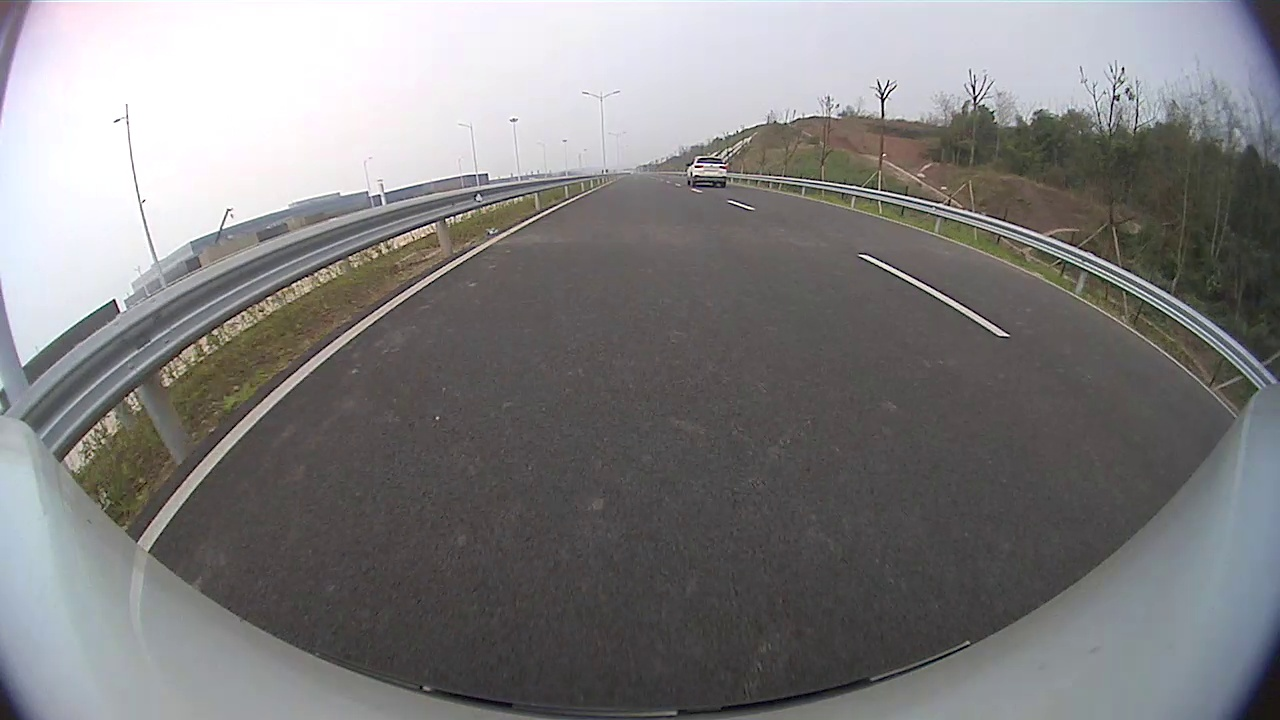car: (685, 155, 728, 187)
